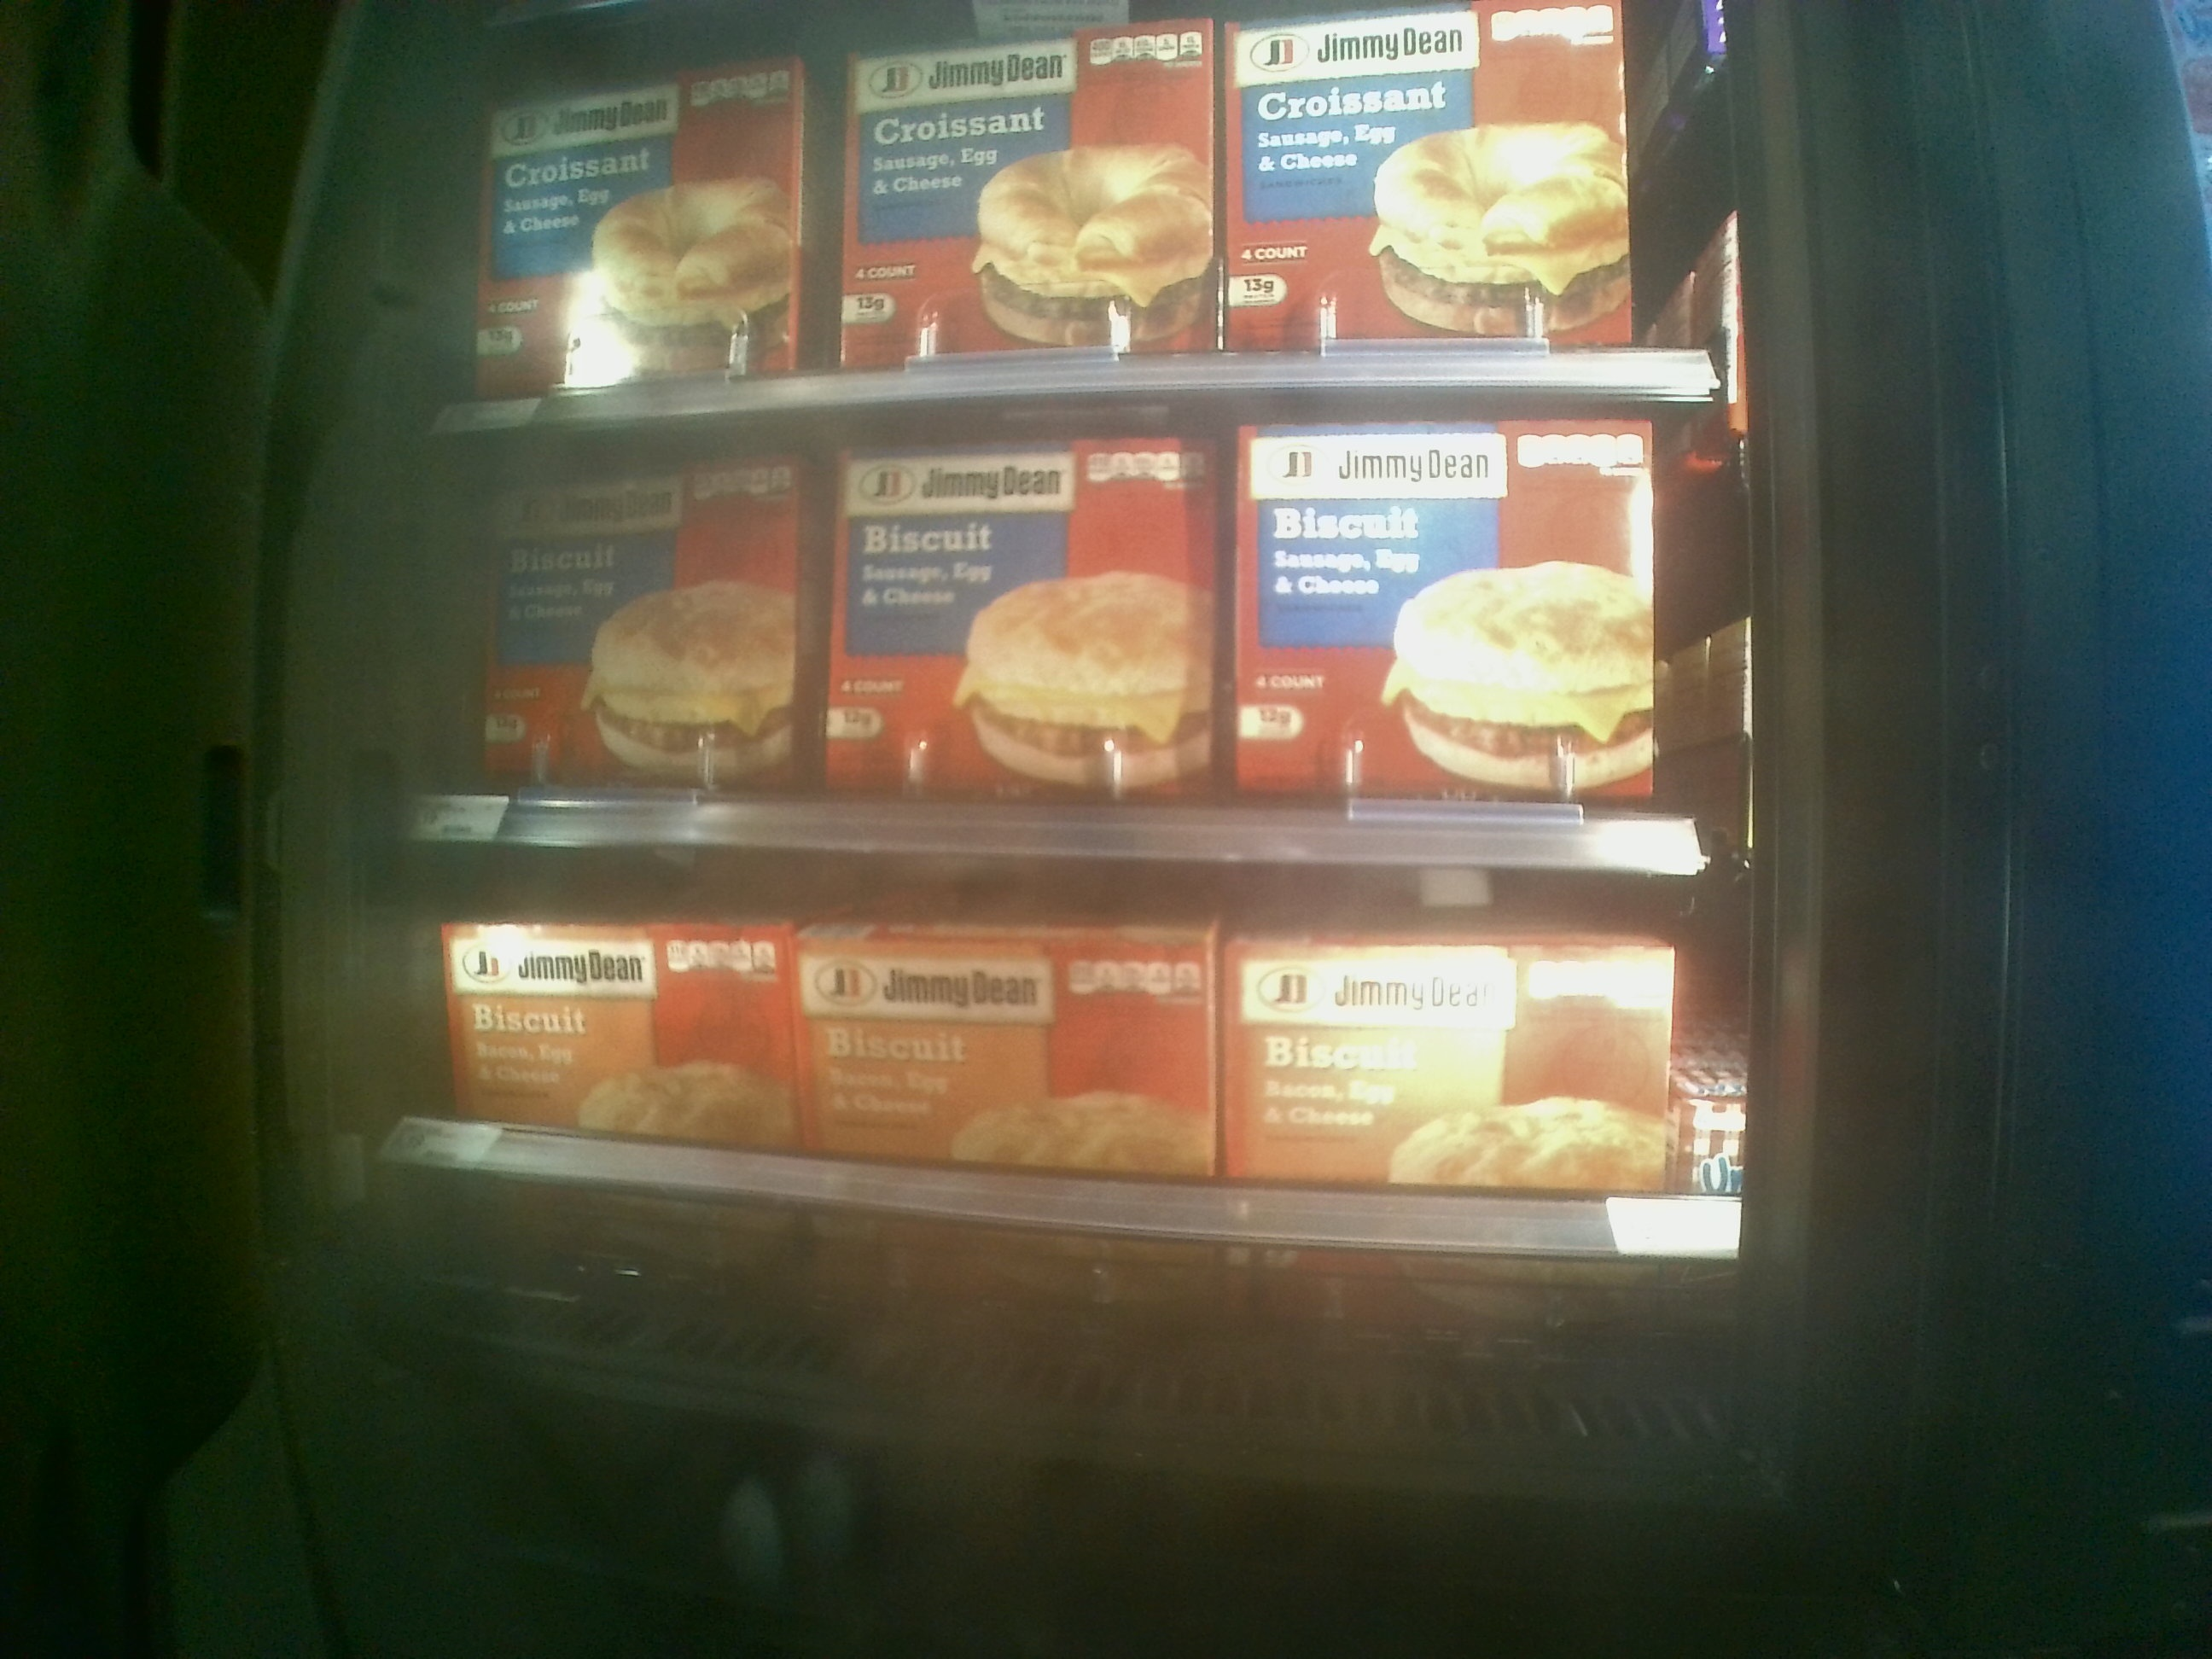shelf: (406, 843, 1754, 1378), (432, 430, 1747, 871)
